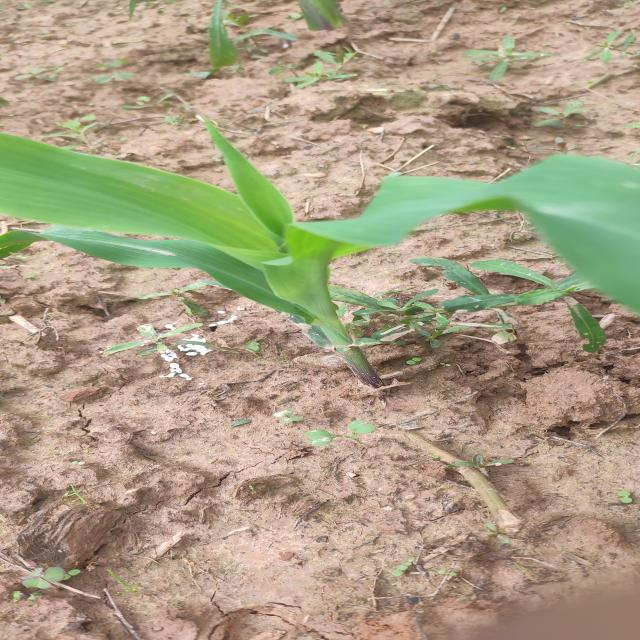maize: (7, 138, 396, 396), (378, 166, 640, 274)
weed: (181, 16, 583, 98), (371, 286, 597, 373)
